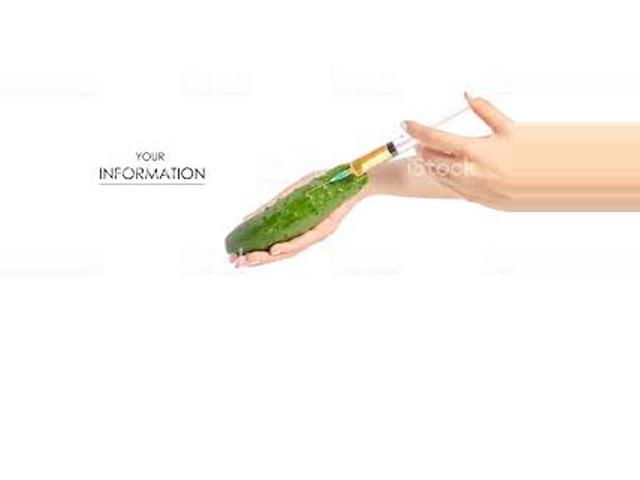cucumber: (226, 161, 367, 254)
